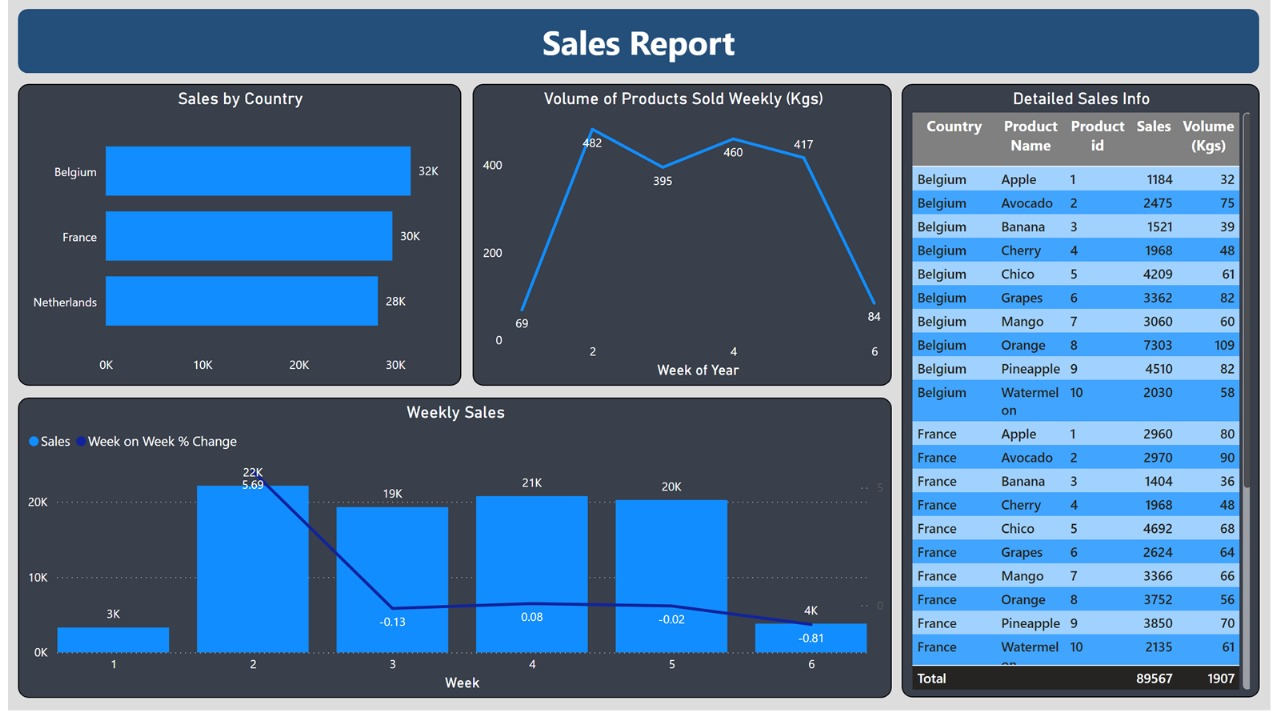

What the dashboard file says about the page in this screenshot:
{"tool":"powerbi","page":{"name":"Page 1","canvas":[1280,720],"ordinal":0},"visuals":[{"type":"barChart","title":"Sales by Country","fields":{"Category":["combined sales.country"],"Y":["Sum(combined sales.Sales)"]},"box":[9.9,85,449.3,306.1],"z":0},{"type":"shape","box":[9.9,8.5,1258.6,65.2],"z":1000},{"type":"lineStackedColumnComboChart","title":"Weekly Sales","fields":{"Category":["combined sales.Week of Year"],"Y":["Sum(combined sales.Sales)"],"Y2":["combined sales.WoW Sales Change"]},"box":[9.9,402.5,885.8,304.7],"z":2000},{"type":"lineChart","title":"Volume of Products Sold Weekly (Kgs)","fields":{"Category":["combined sales.Week of Year"],"Y":["Sum(combined sales.weight_kg)"]},"box":[470.6,85,425.2,306.1],"z":3000},{"type":"tableEx","title":"Detailed Sales Info","fields":{"Values":["combined sales.country","combined sales.product_name","combined sales.product_id","Sum(combined sales.Sales)","Sum(combined sales.weight_kg)"]},"box":[905.7,85,362.8,622.2],"z":4000}]}

Visuals, with their boxes in screenshot pixels (x1, y1, x2, y2), scaled from the page's 1280x720 canvas onto the 1280x720 screenshot:
"Sales by Country" barChart: x1=10 y1=85 x2=459 y2=391
shape: x1=10 y1=8 x2=1268 y2=74
"Weekly Sales" lineStackedColumnComboChart: x1=10 y1=402 x2=896 y2=707
"Volume of Products Sold Weekly (Kgs)" lineChart: x1=471 y1=85 x2=896 y2=391
"Detailed Sales Info" tableEx: x1=906 y1=85 x2=1268 y2=707
